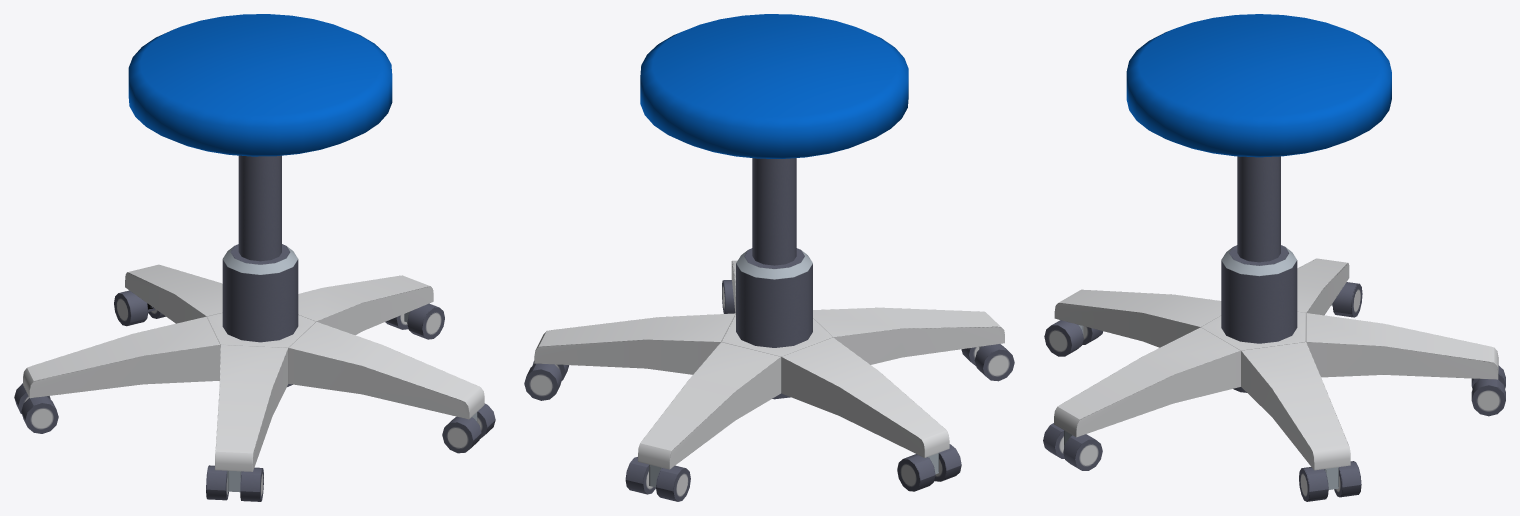
The model's file is Stool_01.FBX.
3 renders of one model, left to right at view 1: azimuth 30°, elevation 25°; view 2: azimuth 150°, elevation 25°; view 3: azimuth 270°, elevation 25°, orthographic.
Parts seen in each view (by area): view 1: Stool_01; view 2: Stool_01; view 3: Stool_01.
Boxes of the visible parts, x1=… form: Stool_01: x1=14, y1=14, x2=495, y2=501; Stool_01: x1=524, y1=14, x2=1014, y2=501; Stool_01: x1=1043, y1=14, x2=1505, y2=501.
Size of the model in its own units: 1.25 by 0.9675 by 1.19.
Materials: 3 (3 with a texture image).
